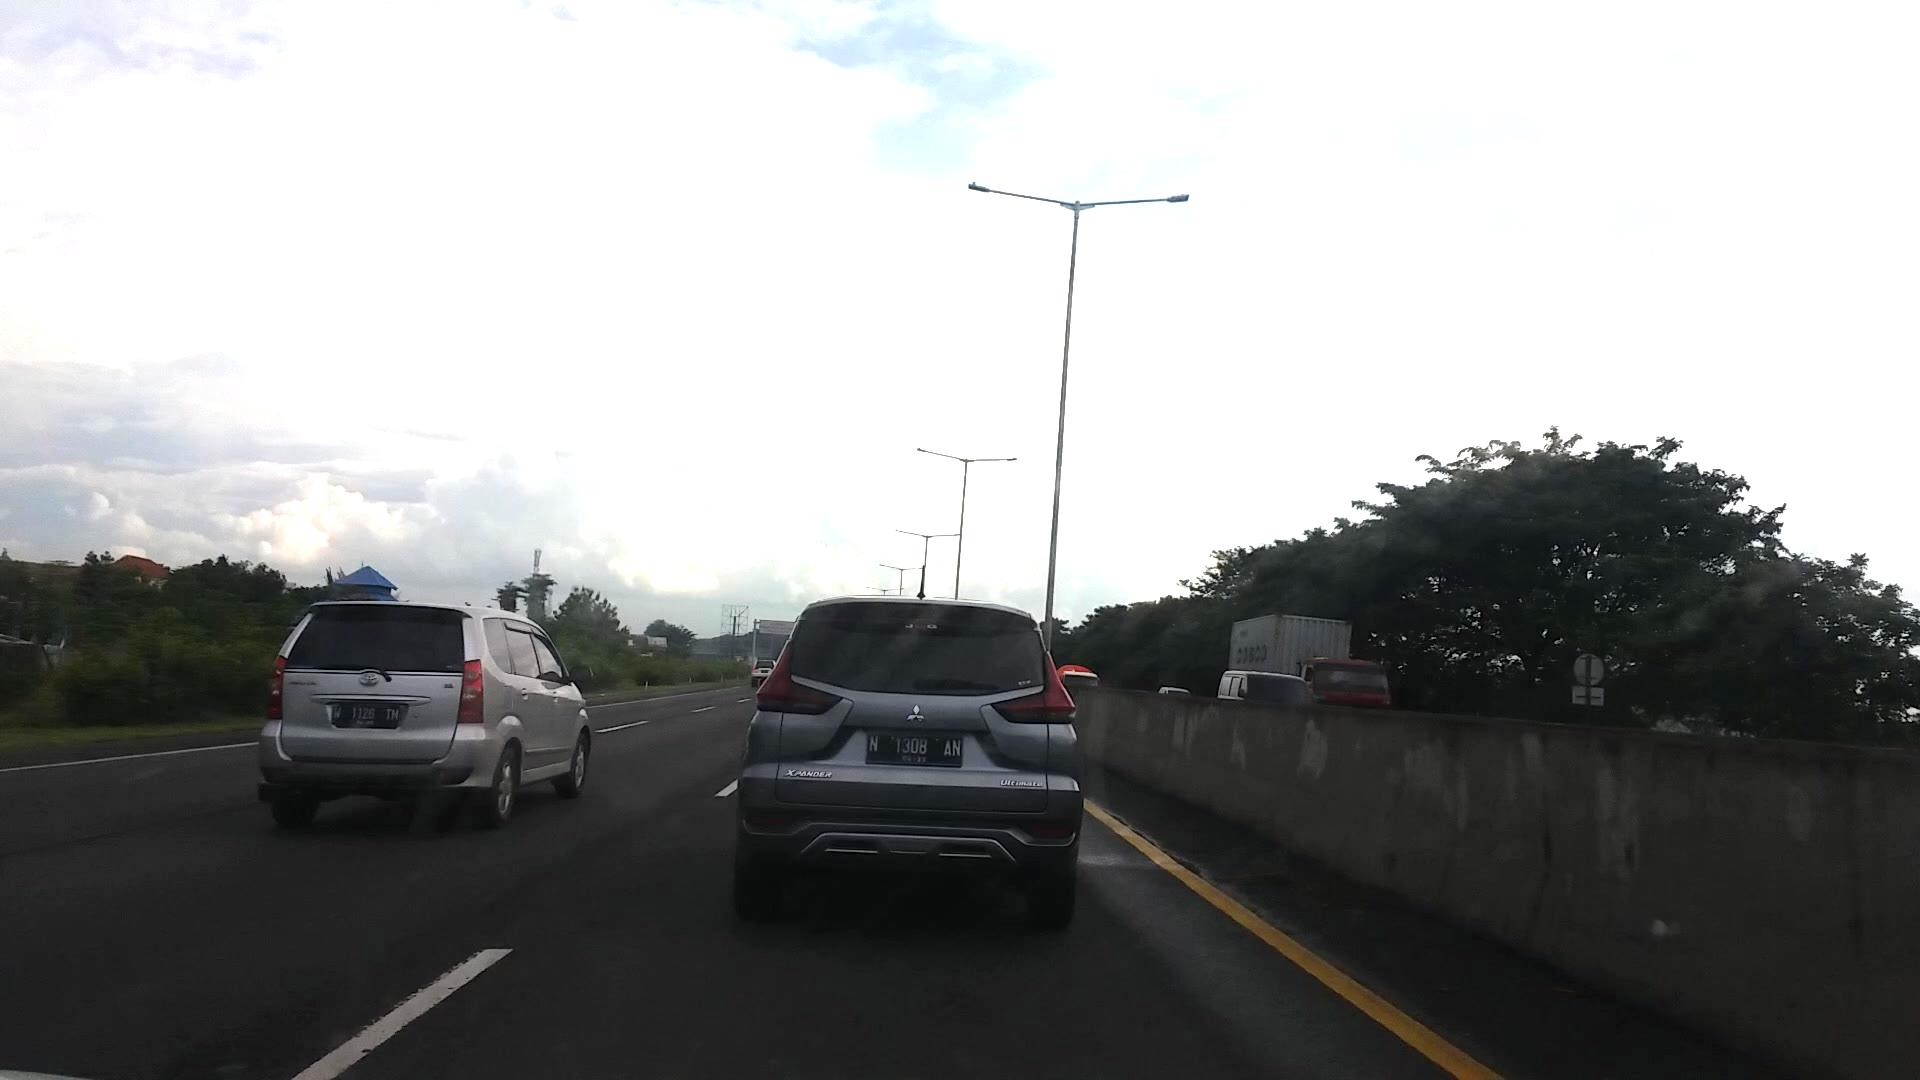plate_positive: (866, 732, 963, 767), (331, 702, 402, 729)
